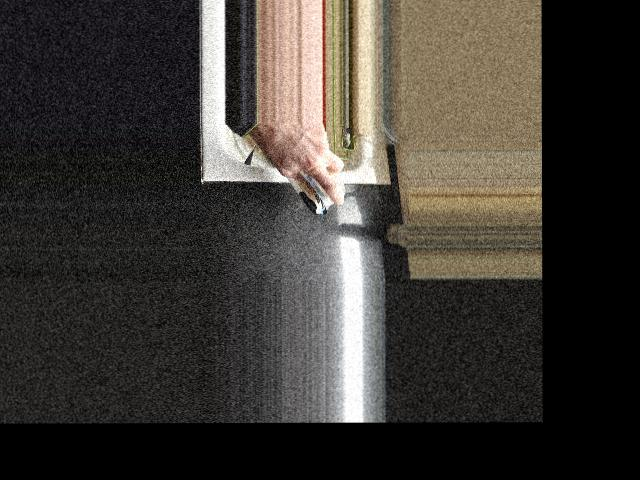cheese: (274, 128, 341, 218)
